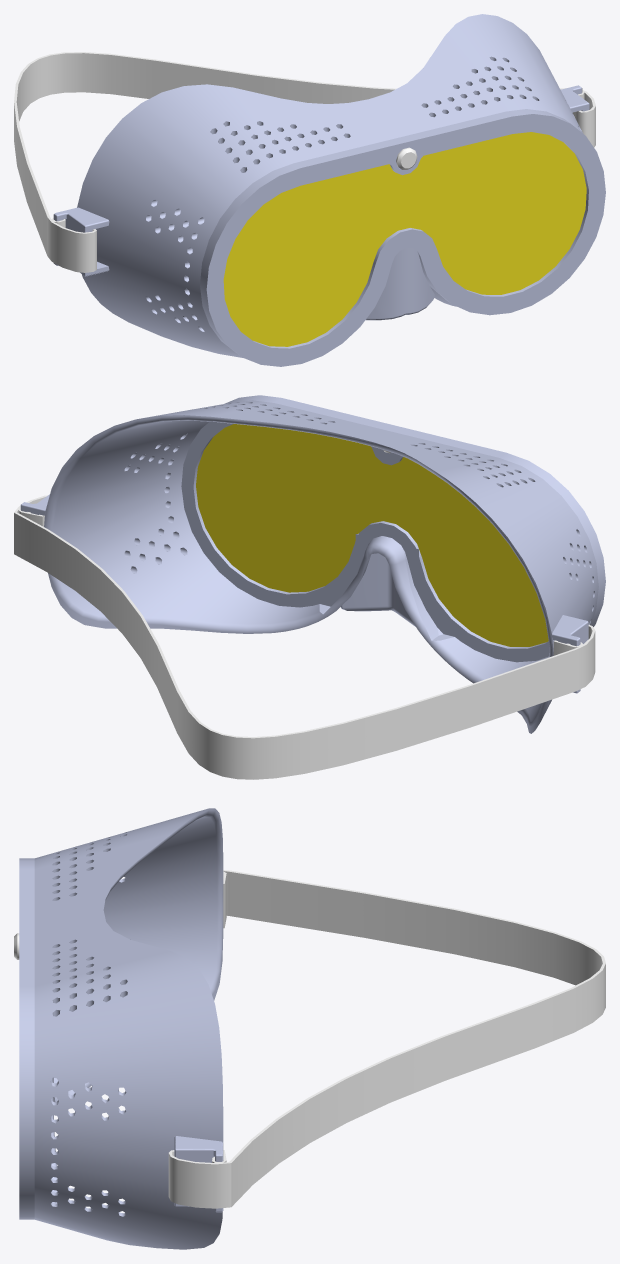
The model's file is Goggles_1.fbx.
3 views of the same model, one above another, from view 1: azimuth 30°, elevation 25°; view 2: azimuth 150°, elevation 25°; view 3: azimuth 270°, elevation 25° (orthographic). The views are drawn at different scales.
Parts seen in each view (by area): view 1: BRep_11, BRep_1, BRep_7; view 2: BRep_11, BRep_1, BRep_7; view 3: BRep_11, BRep_1, BRep_4.
Part boxes in pixels (box(x1,y1,x2,y2)): BRep_11: box(77, 14, 605, 366); BRep_1: box(14, 52, 595, 272); BRep_7: box(53, 207, 98, 276); BRep_11: box(44, 395, 605, 733); BRep_1: box(14, 495, 595, 779); BRep_7: box(552, 617, 588, 693); BRep_11: box(19, 808, 223, 1249); BRep_1: box(168, 870, 605, 1208); BRep_4: box(174, 1141, 223, 1212).
Size of the model in its own units: 207 by 88.55 by 176.
